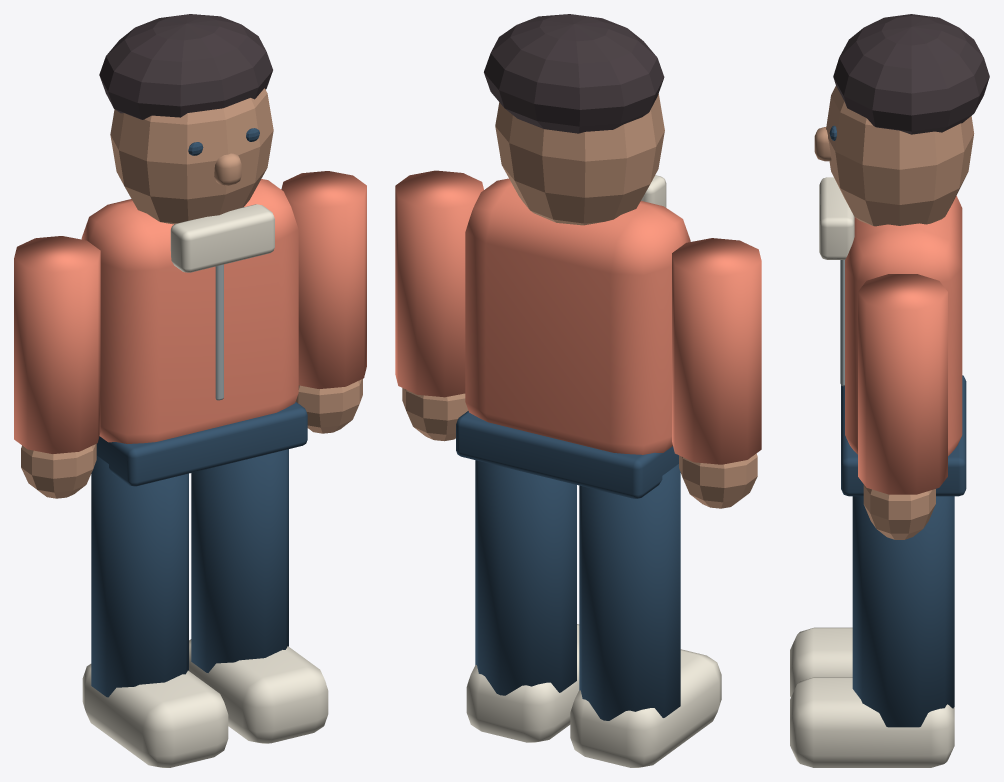
The model's file is HL_Player_Nova.fbx.
3 renders of one model, left to right at view 1: azimuth 30°, elevation 25°; view 2: azimuth 150°, elevation 25°; view 3: azimuth 270°, elevation 25°, orthographic. The views are drawn at different scales.
Parts seen in each view (by area): view 1: Torso | tailored jacket, Leg | trousers, Leg | trousers.001, Arm | sleeve, Arm | sleeve.001, Head | face, Head | hair cap, Foot | sneaker, Foot | sneaker.001, Torso | belt, Torso | collar, Arm | hand (+3 smaller); view 2: Torso | tailored jacket, Leg | trousers, Leg | trousers.001, Arm | sleeve, Head | hair cap, Arm | sleeve.001, Head | face, Torso | belt, Foot | sneaker, Foot | sneaker.001, Arm | hand, Arm | hand.001; view 3: Leg | trousers.001, Arm | sleeve.001, Head | hair cap, Head | face, Torso | tailored jacket, Foot | sneaker.001, Foot | sneaker, Arm | hand.001, Torso | belt, Torso | collar, Jacket | coral or teal chest zip, Head | nose.
Boxes of the visible parts, x1,y1,x2,y2 form: Torso | tailored jacket: [81, 179, 298, 443]; Leg | trousers: [91, 455, 188, 697]; Leg | trousers.001: [191, 449, 288, 672]; Arm | sleeve: [14, 236, 100, 453]; Arm | sleeve.001: [281, 171, 366, 388]; Head | face: [110, 88, 273, 224]; Head | hair cap: [99, 14, 272, 119]; Foot | sneaker: [82, 664, 228, 767]; Foot | sneaker.001: [189, 639, 328, 743]; Torso | belt: [96, 402, 307, 486]; Torso | collar: [170, 204, 274, 272]; Arm | hand: [21, 444, 96, 498]; Torso | tailored jacket: [465, 178, 690, 454]; Leg | trousers: [579, 464, 680, 720]; Leg | trousers.001: [475, 460, 576, 695]; Arm | sleeve: [672, 238, 761, 464]; Head | hair cap: [484, 14, 664, 133]; Arm | sleeve.001: [395, 170, 483, 397]; Head | face: [495, 94, 664, 225]; Torso | belt: [456, 411, 678, 498]; Foot | sneaker: [570, 649, 721, 767]; Foot | sneaker.001: [466, 624, 579, 742]; Arm | hand: [679, 453, 757, 508]; Arm | hand.001: [402, 388, 468, 441]; Leg | trousers.001: [852, 496, 954, 727]; Arm | sleeve.001: [858, 274, 947, 494]; Head | hair cap: [833, 14, 989, 134]; Head | face: [826, 86, 974, 226]; Torso | tailored jacket: [845, 196, 962, 455]; Foot | sneaker.001: [790, 677, 954, 767]; Foot | sneaker: [790, 627, 852, 697]; Arm | hand.001: [863, 484, 935, 539]; Torso | belt: [841, 375, 966, 496]; Torso | collar: [819, 177, 854, 259]; Jacket | coral or teal chest zip: [840, 260, 844, 386]; Head | nose: [814, 127, 831, 161].
Size of the model in its own units: 102 by 199 by 51.
